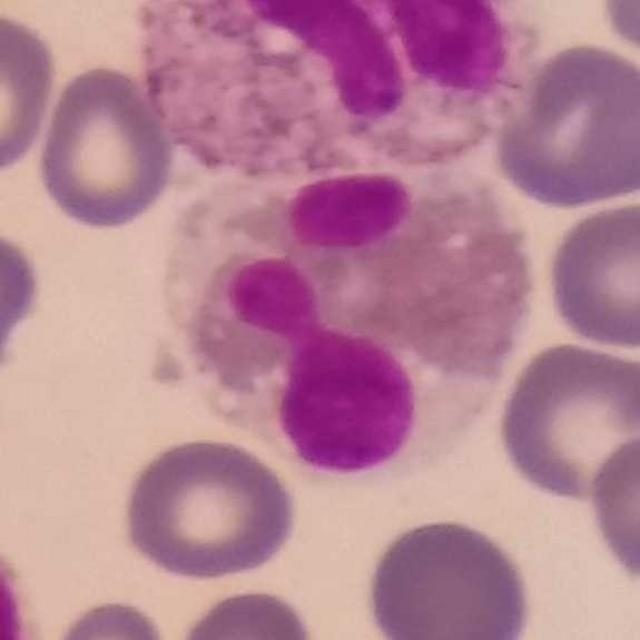Eosinophil: (163, 174, 535, 475), (143, 2, 539, 188), (0, 523, 47, 638)
RBC: (114, 432, 300, 584), (487, 37, 640, 212), (491, 336, 640, 508), (31, 61, 179, 234), (360, 512, 538, 640), (541, 195, 640, 354), (0, 6, 61, 180), (583, 426, 640, 592), (169, 583, 322, 640), (0, 220, 47, 397), (34, 594, 180, 640), (593, 0, 640, 67)
